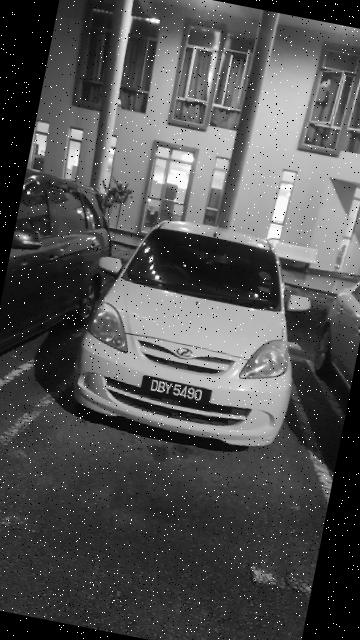License_Plate: (140, 373, 214, 412)
car: (65, 201, 327, 462), (1, 166, 126, 394), (309, 262, 360, 414)
